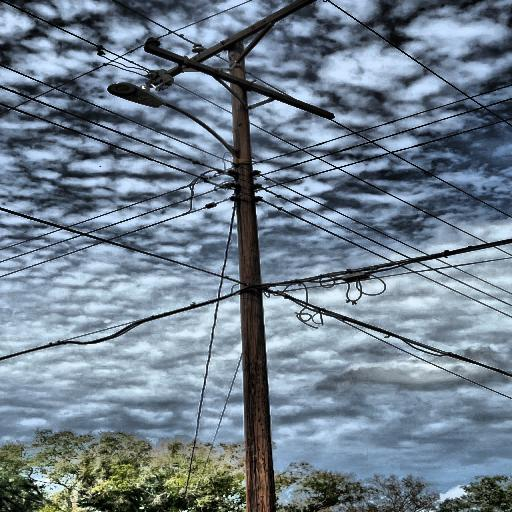pole: (215, 25, 306, 512)
street light: (107, 80, 247, 163)
